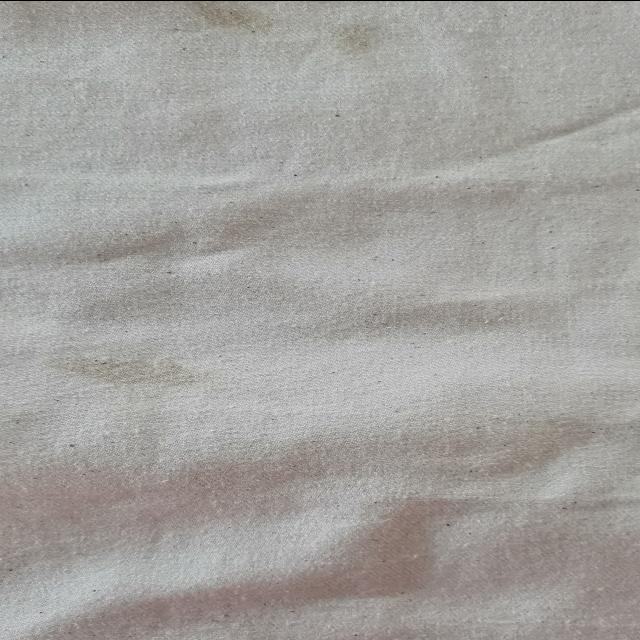taaaches: (30, 346, 204, 394), (324, 13, 402, 58), (162, 0, 270, 32)
